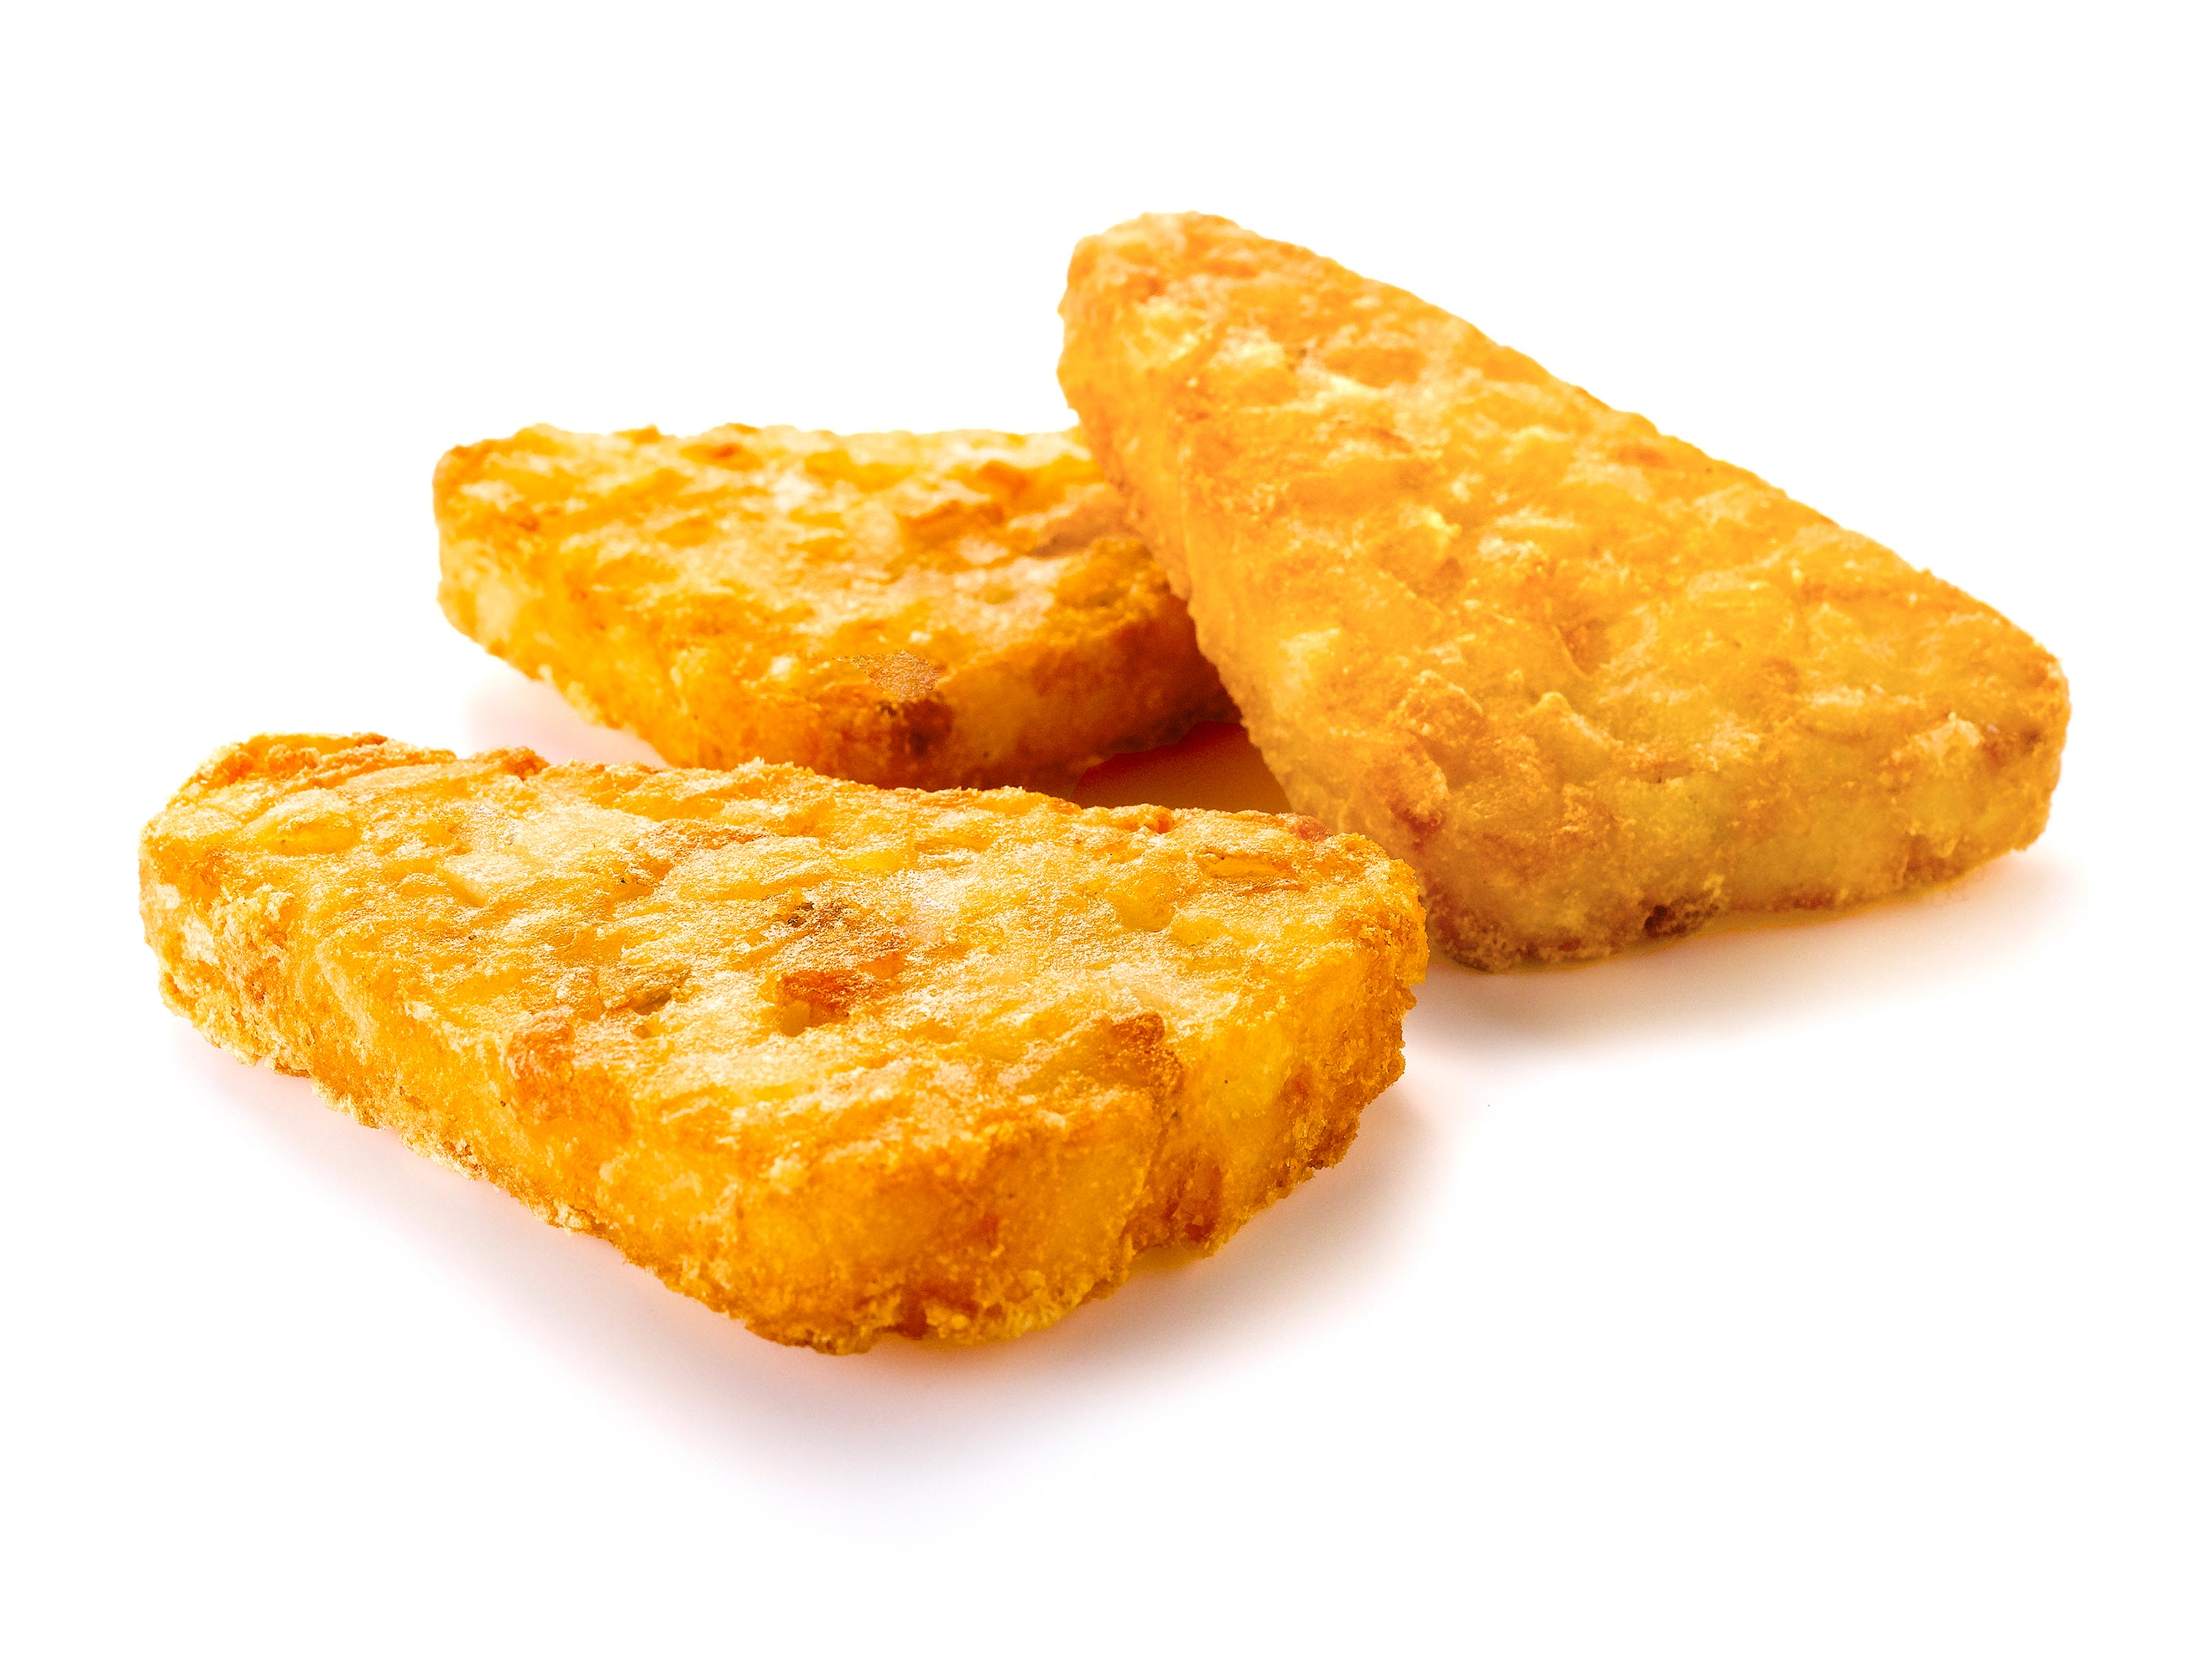triangle_hash_brown: (221, 249, 2038, 1344)
